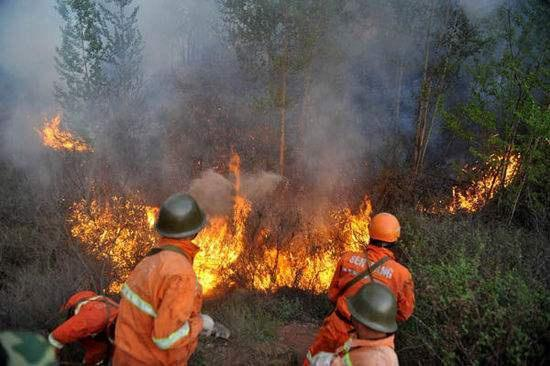fire: (191, 161, 376, 297), (72, 189, 158, 283), (428, 143, 520, 214), (31, 111, 86, 150)
